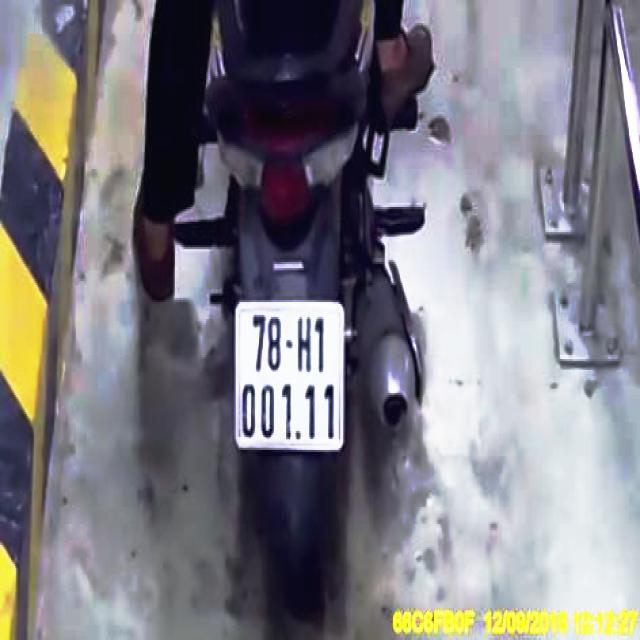license_plate: (234, 305, 346, 449)
